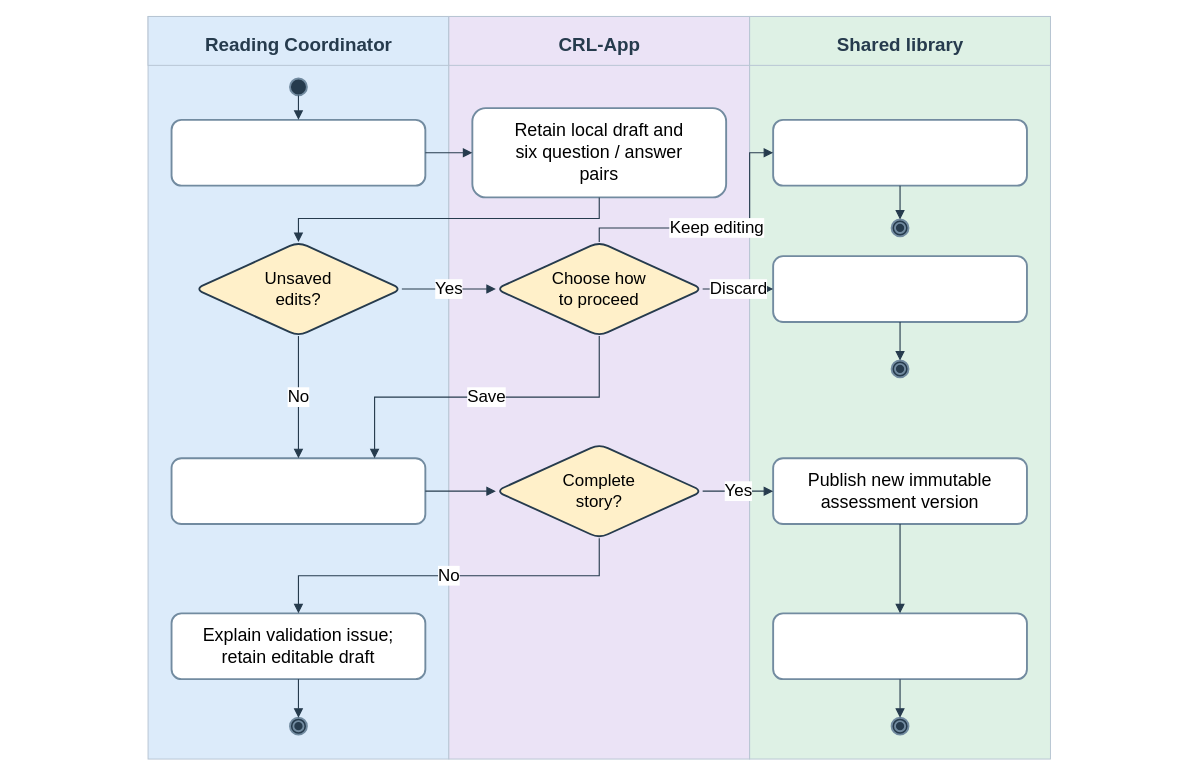
The diagram is 1198 pixels wide and 776 high, and some of its shapes have lost their labels. Each missing label, with the centre of its shape:
"Discard unsaved draft; retain published version" goes at point (899, 288).
"Edit or import passage; use text / word blocks" goes at point (298, 152).
"Keep draft open; return to the editor" goes at point (899, 152).
"Save complete story and shared contents" goes at point (298, 491).
"Use for new attempts; retain running versions" goes at point (899, 646).
